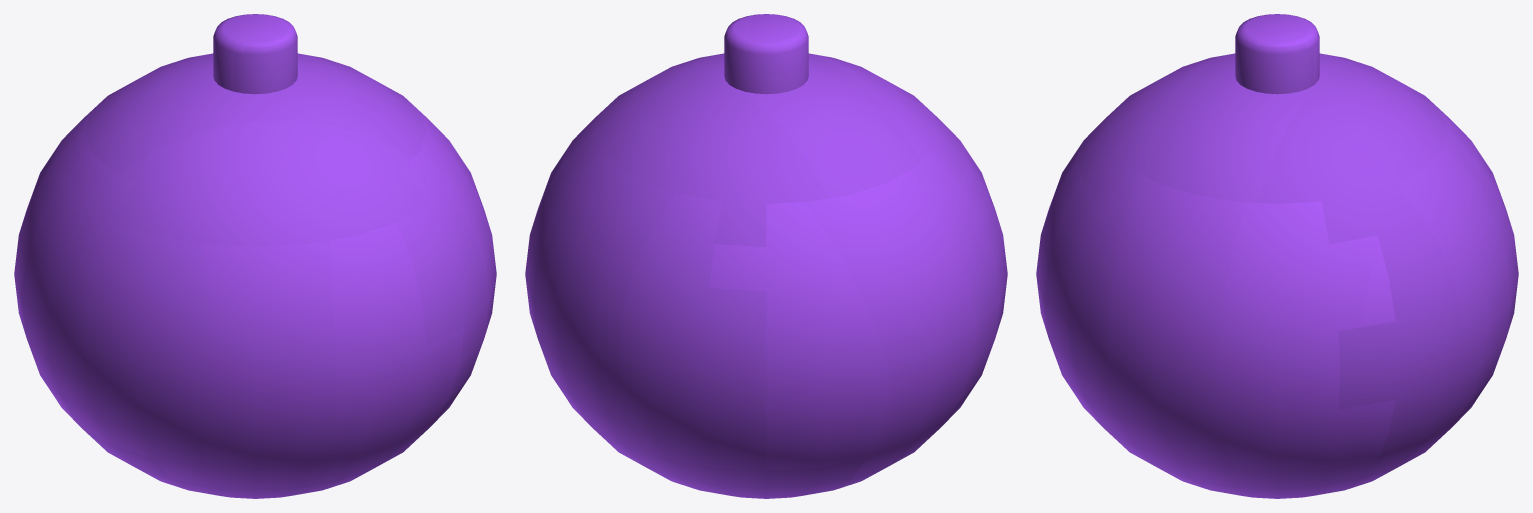
The model's file is onion.glb.
3 views of the same model, side by side, from view 1: azimuth 30°, elevation 25°; view 2: azimuth 150°, elevation 25°; view 3: azimuth 270°, elevation 25° (orthographic).
Visible parts, largest first — view 1: OnionBulb, OnionTip; view 2: OnionBulb, OnionTip; view 3: OnionBulb, OnionTip.
Boxes of the visible parts, bbox=[...] form: OnionBulb: bbox=[14, 53, 496, 498]; OnionTip: bbox=[213, 14, 297, 94]; OnionBulb: bbox=[525, 53, 1007, 498]; OnionTip: bbox=[724, 14, 808, 94]; OnionBulb: bbox=[1036, 53, 1518, 498]; OnionTip: bbox=[1235, 14, 1319, 94].
Size of the model in its own units: 0.4 by 0.409 by 0.4.
Materials: 1 (1 with a texture image).
